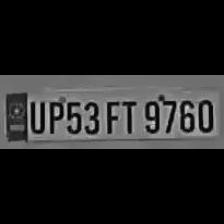0: (195, 96, 215, 134)
3: (82, 98, 100, 136)
5: (64, 96, 82, 134)
6: (176, 96, 194, 134)
7: (160, 95, 176, 135)
9: (140, 96, 160, 134)
B: (2, 94, 26, 138)
F: (102, 97, 120, 135)
P: (45, 97, 63, 135)
T: (119, 97, 137, 135)
U: (28, 97, 44, 135)
